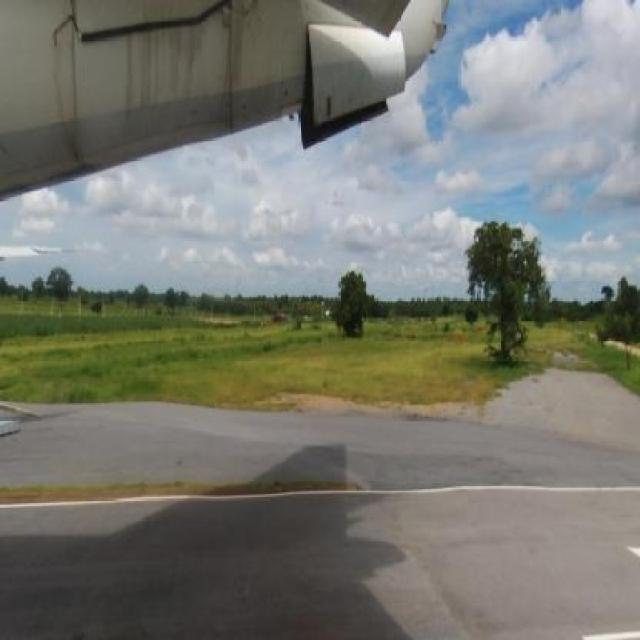Rust: (118, 16, 213, 122), (41, 7, 98, 176), (220, 3, 268, 137)
